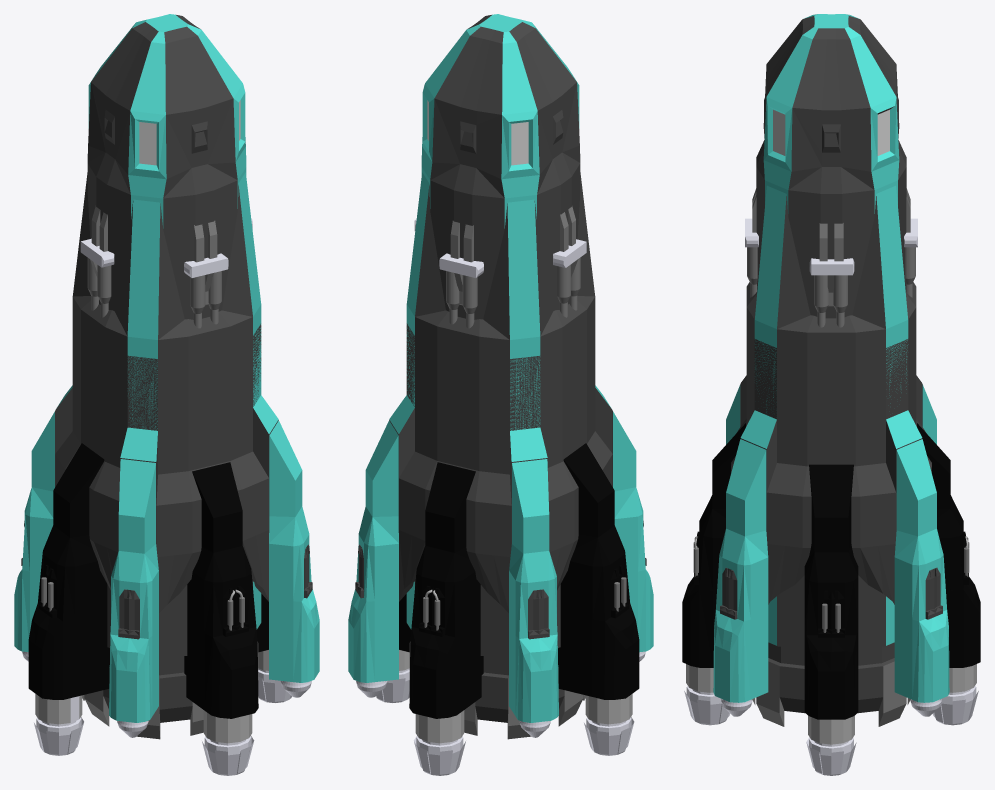
The model's file is AetherII.gltf.
3 views of the same model, side by side, from view 1: azimuth 30°, elevation 25°; view 2: azimuth 150°, elevation 25°; view 3: azimuth 270°, elevation 25° (orthographic).
Visible parts, largest first — view 1: Body, ThrusterPipe.001, ThrusterPipe, ThrusterPipe2, CockpitPipes, CockpitPipes2; view 2: Body, ThrusterPipe.001, ThrusterPipe, ThrusterPipe2, CockpitPipes, CockpitPipes2; view 3: Body, ThrusterPipe.001, ThrusterPipe2, ThrusterPipe, CockpitPipes2, CockpitPipes.
Boxes of the visible parts, box(x1,y1,x2,y2) form: Body: box(55, 14, 278, 739); ThrusterPipe.001: box(14, 411, 319, 737); ThrusterPipe: box(28, 443, 291, 755); ThrusterPipe2: box(184, 462, 258, 775); CockpitPipes: box(184, 220, 228, 328); CockpitPipes2: box(80, 205, 252, 317); Body: box(389, 14, 612, 739); ThrusterPipe.001: box(348, 411, 653, 737); ThrusterPipe: box(376, 443, 639, 755); ThrusterPipe2: box(409, 462, 483, 775); CockpitPipes: box(439, 220, 483, 328); CockpitPipes2: box(414, 206, 586, 317); Body: box(731, 14, 931, 726); ThrusterPipe.001: box(713, 384, 949, 716); ThrusterPipe2: box(682, 423, 980, 725); ThrusterPipe: box(804, 464, 858, 775); CockpitPipes2: box(809, 223, 854, 327); CockpitPipes: box(745, 188, 917, 297).
Size of the model in its own units: 22.22 by 56.57 by 21.96.
